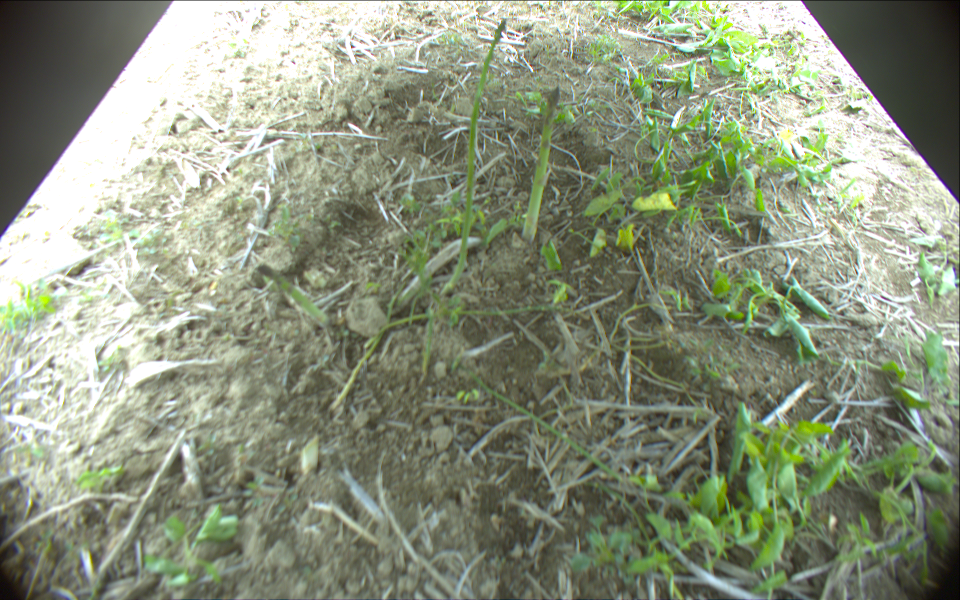aspa: (442, 18, 507, 295), (521, 89, 558, 238), (256, 261, 331, 330)
